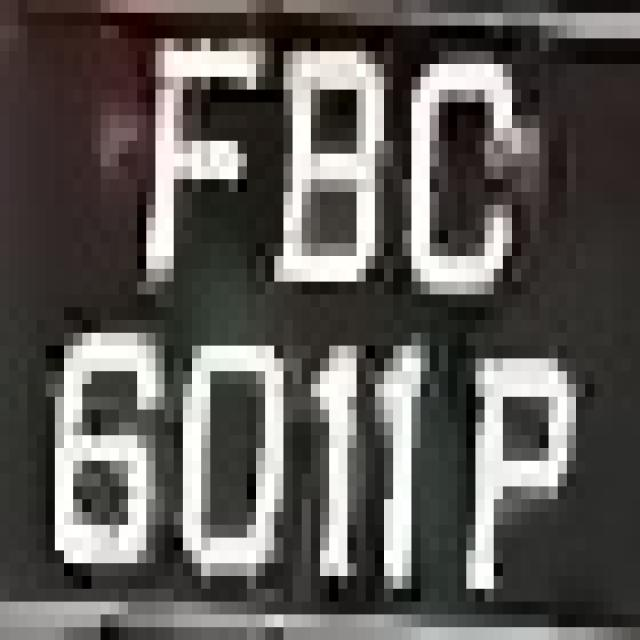0: (164, 307, 284, 602)
1: (283, 320, 375, 602), (356, 320, 421, 589)
6: (36, 282, 165, 588)
B: (256, 13, 402, 307)
C: (393, 38, 521, 294)
F: (119, 26, 265, 307)
P: (448, 282, 585, 602)
